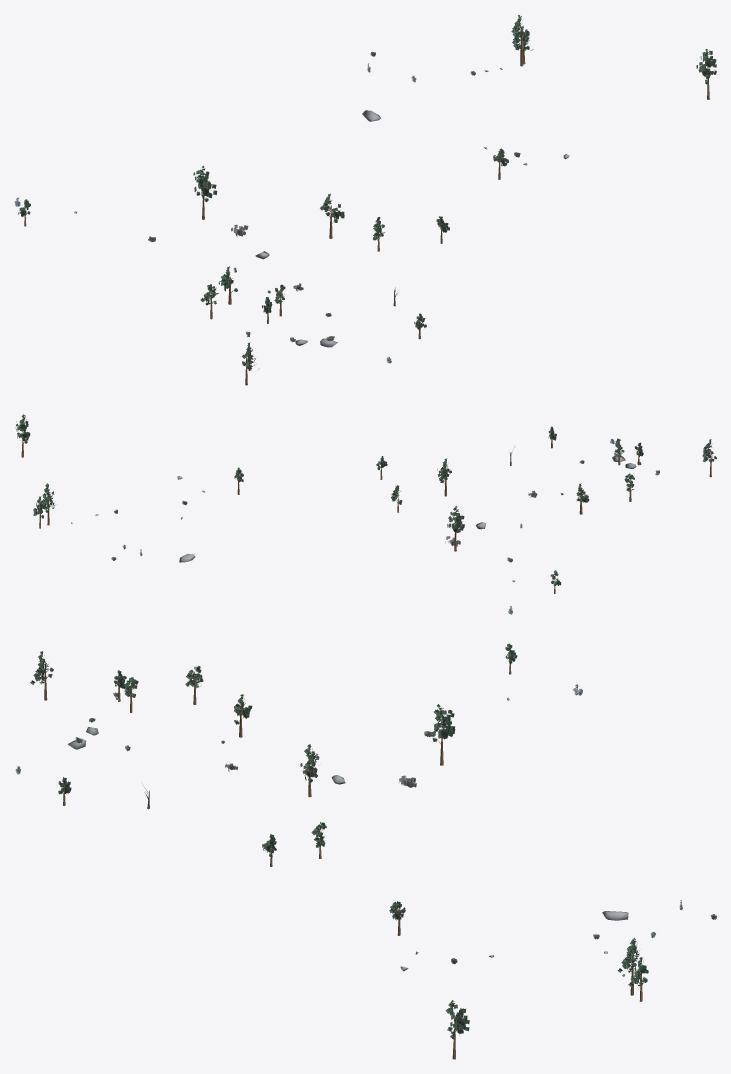
The model's file is frost_land_scatter_c15_12.glb.
3 renders of one model, top to bottom at view 1: azimuth 30°, elevation 25°; view 2: azimuth 150°, elevation 25°; view 3: azimuth 270°, elevation 25°, orthographic. The views are drawn at different scales.
Parts seen in each view (by area): view 1: frost_land_scatter_c15_12; view 2: frost_land_scatter_c15_12; view 3: frost_land_scatter_c15_12.
Boxes of the visible parts, x1,y1,x2,y2 form: frost_land_scatter_c15_12: (14, 15, 716, 385); frost_land_scatter_c15_12: (15, 414, 716, 614); frost_land_scatter_c15_12: (15, 643, 716, 1059).
Bounding box in the file's own units: 185 × 20.03 × 147.
